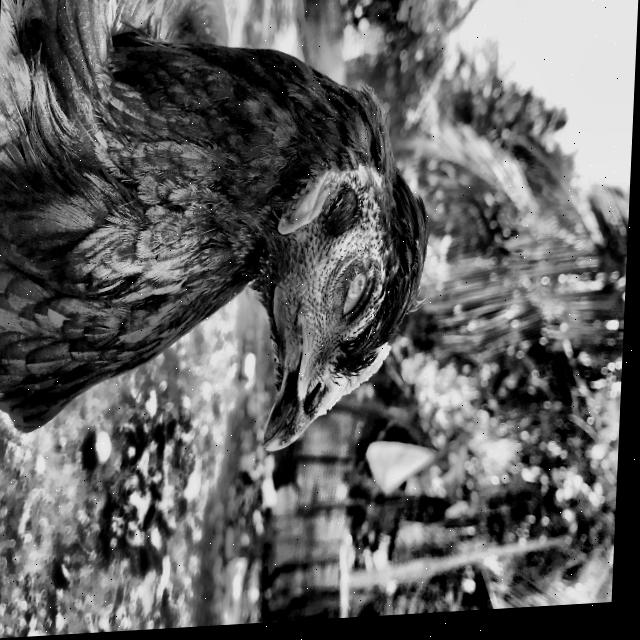Coryza: (0, 0, 476, 551)
